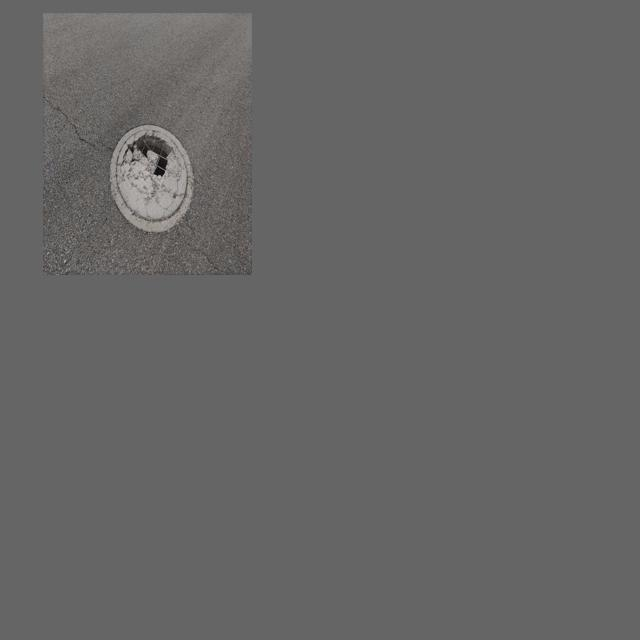broke: (108, 121, 195, 235)
